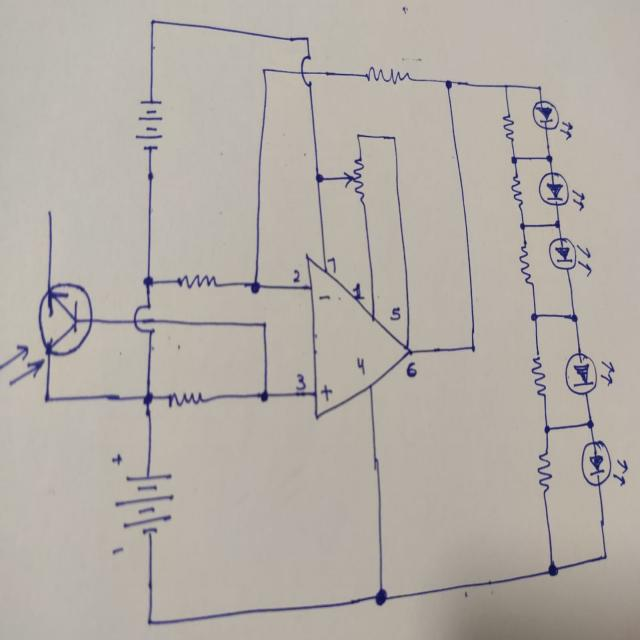crossover: (132, 299, 156, 336), (300, 51, 315, 89)
diode: (580, 436, 626, 488), (564, 350, 615, 395), (537, 169, 585, 212), (546, 235, 592, 277), (530, 96, 572, 138)
junction: (137, 379, 160, 412), (371, 585, 390, 607), (549, 212, 567, 235), (310, 165, 328, 188), (40, 386, 55, 411), (506, 148, 522, 171), (247, 275, 263, 296), (545, 558, 561, 578), (142, 611, 158, 630), (566, 308, 581, 328), (257, 383, 271, 404), (442, 74, 456, 93), (258, 314, 270, 336), (140, 274, 157, 289), (516, 216, 530, 234), (540, 419, 553, 437), (528, 306, 540, 324), (147, 15, 158, 32), (543, 149, 556, 163), (302, 31, 313, 47), (258, 63, 268, 80), (584, 416, 596, 430), (600, 548, 610, 564), (468, 340, 478, 356), (388, 131, 398, 144), (353, 130, 362, 142), (535, 83, 543, 95), (502, 81, 510, 92)
resistor: (342, 149, 366, 205), (364, 64, 410, 86), (533, 448, 554, 494), (517, 239, 534, 288), (530, 354, 548, 398), (176, 271, 217, 289), (166, 388, 205, 406), (500, 110, 516, 143), (510, 171, 524, 207)
source: (108, 452, 174, 555), (134, 96, 163, 153)
terminal: (44, 203, 56, 221)
text: (294, 371, 308, 391), (319, 382, 333, 402), (354, 354, 366, 376), (352, 282, 365, 300), (406, 360, 417, 378), (389, 305, 401, 321), (326, 255, 336, 274), (292, 268, 301, 282), (317, 293, 331, 301)
transistor: (1, 279, 92, 385)
